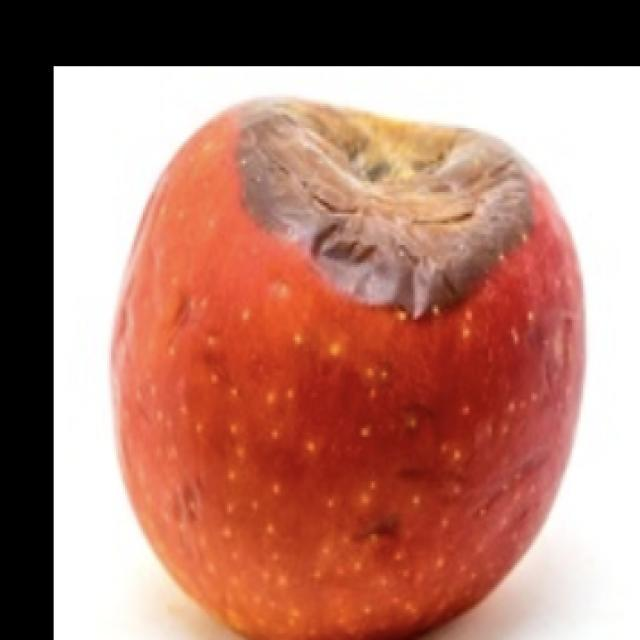Rotten: (134, 108, 591, 640)
